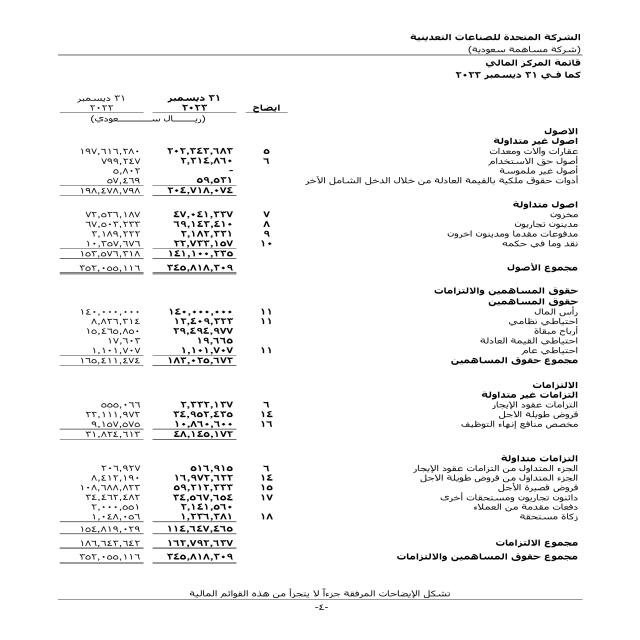financial_sheets: (480, 58, 603, 70)
table: (37, 72, 301, 575)
